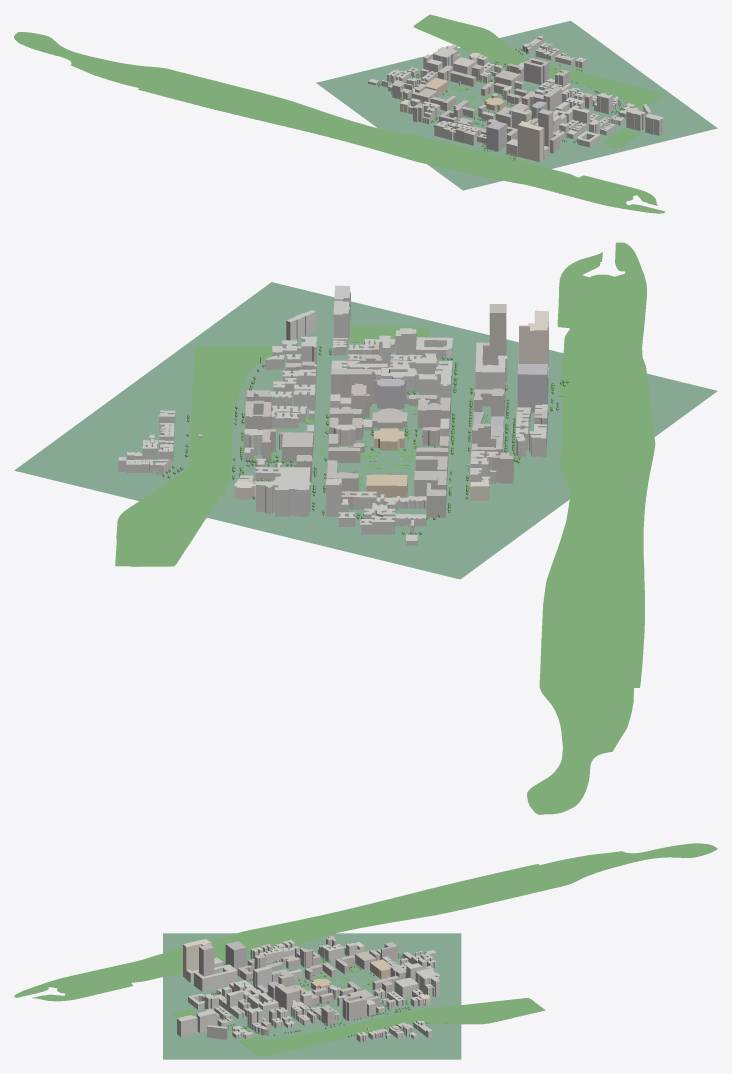
Rendered from columbia-campus.glb.
The picture shows the model from 3 angles, top to bottom: view 1: azimuth 30°, elevation 25°; view 2: azimuth 150°, elevation 25°; view 3: azimuth 270°, elevation 25°; orthographic projection. The views are drawn at different scales.
Visible parts, largest first — view 1: vegetation_Riverside_Park, ground_terrain, vegetation_Morningside_Park, building_church, building_Interchurch_Center, building_East_Campus_Residence_Hall, building_Claremont_Hall, vegetation_garden, building_hospital, building_yes, building_apartments, building_Mudd_Hall; view 2: ground_terrain, vegetation_Riverside_Park, vegetation_Morningside_Park, building_hospital, building_church, building_Interchurch_Center, building_Mudd_Hall, building_Claremont_Hall, building_Schapiro_Center__CEPSR_, building_Butler_Library, building_Jerome_Greene_Hall; view 3: ground_terrain, vegetation_Riverside_Park, vegetation_Morningside_Park, building_yes (×3), building_church, building_East_Campus_Residence_Hall, building_Interchurch_Center, building_hospital, building_Claremont_Hall, building_apartments, building_Mudd_Hall.
Boxes of the visible parts, x1,y1,x2,y2 form: vegetation_Riverside_Park: [14, 32, 665, 213]; ground_terrain: [316, 20, 717, 190]; vegetation_Morningside_Park: [413, 14, 663, 109]; building_church: [517, 120, 544, 162]; building_Interchurch_Center: [486, 121, 506, 151]; building_East_Campus_Residence_Hall: [524, 57, 549, 84]; building_Claremont_Hall: [538, 109, 553, 151]; vegetation_garden: [602, 127, 642, 148]; building_hospital: [433, 44, 457, 67]; building_yes: [626, 108, 645, 130]; building_apartments: [645, 113, 663, 135]; building_Mudd_Hall: [543, 87, 561, 111]; ground_terrain: [14, 282, 717, 579]; vegetation_Riverside_Park: [527, 242, 655, 814]; vegetation_Morningside_Park: [115, 346, 272, 566]; building_hospital: [256, 476, 310, 516]; building_church: [519, 310, 548, 367]; building_Interchurch_Center: [517, 364, 547, 412]; building_Mudd_Hall: [331, 369, 374, 406]; building_Claremont_Hall: [489, 304, 506, 365]; building_Schapiro_Center__CEPSR_: [374, 378, 406, 409]; building_Butler_Library: [366, 474, 407, 497]; building_Jerome_Greene_Hall: [279, 432, 313, 462]; ground_terrain: [163, 933, 461, 1059]; vegetation_Riverside_Park: [14, 843, 717, 1001]; vegetation_Morningside_Park: [239, 998, 545, 1056]; building_yes (×3): [196, 965, 418, 1032]; building_church: [183, 939, 211, 978]; building_East_Campus_Residence_Hall: [342, 993, 366, 1021]; building_Interchurch_Center: [225, 941, 246, 969]; building_hospital: [415, 968, 440, 997]; building_Claremont_Hall: [199, 944, 214, 976]; building_apartments: [177, 1015, 197, 1037]; building_Mudd_Hall: [275, 984, 292, 1011].
Size of the model in its own units: 1736 by 142 by 2388.
